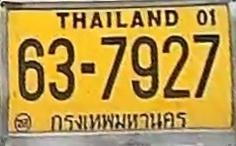2: (162, 34, 189, 98)
3: (47, 37, 74, 100)
6: (18, 38, 44, 100)
7: (192, 33, 220, 98), (100, 36, 127, 99)
9: (131, 35, 158, 98)
BKK: (48, 110, 192, 135)
